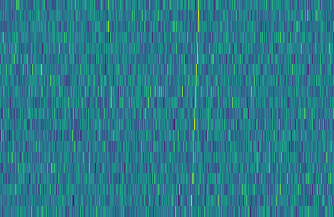signal: (186, 0, 204, 217)
